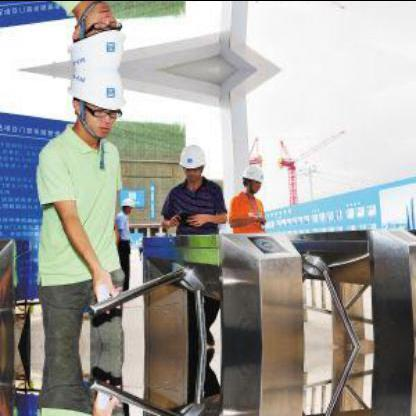Helmet: (67, 70, 128, 142), (67, 0, 130, 67), (178, 138, 206, 182), (241, 158, 263, 192), (119, 194, 132, 214)
